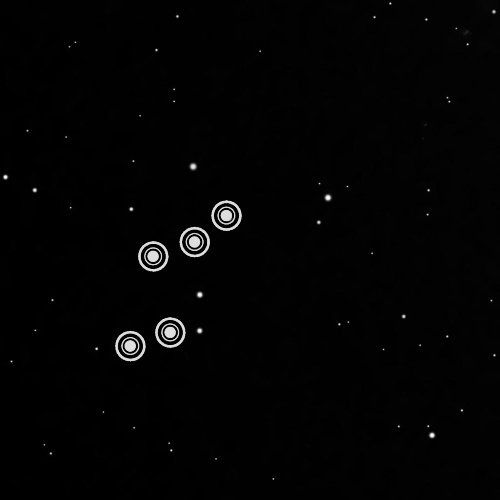lyra: (106, 187, 248, 378)
